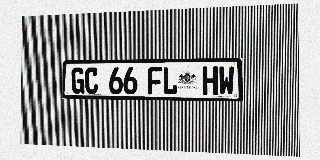6: (109, 67, 123, 94), (123, 67, 137, 94)
C: (85, 67, 98, 94)
F: (148, 67, 162, 95)
G: (71, 67, 85, 94)
H: (202, 66, 218, 95)
L: (163, 67, 177, 95)
W: (218, 66, 234, 95)
